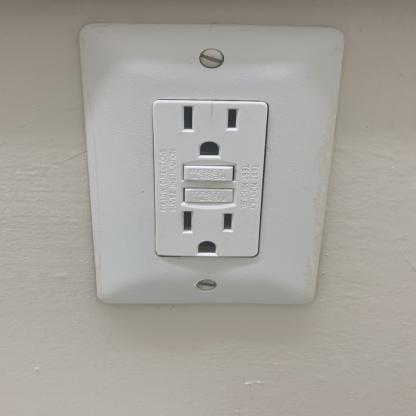OUTLET: (80, 21, 326, 304)
